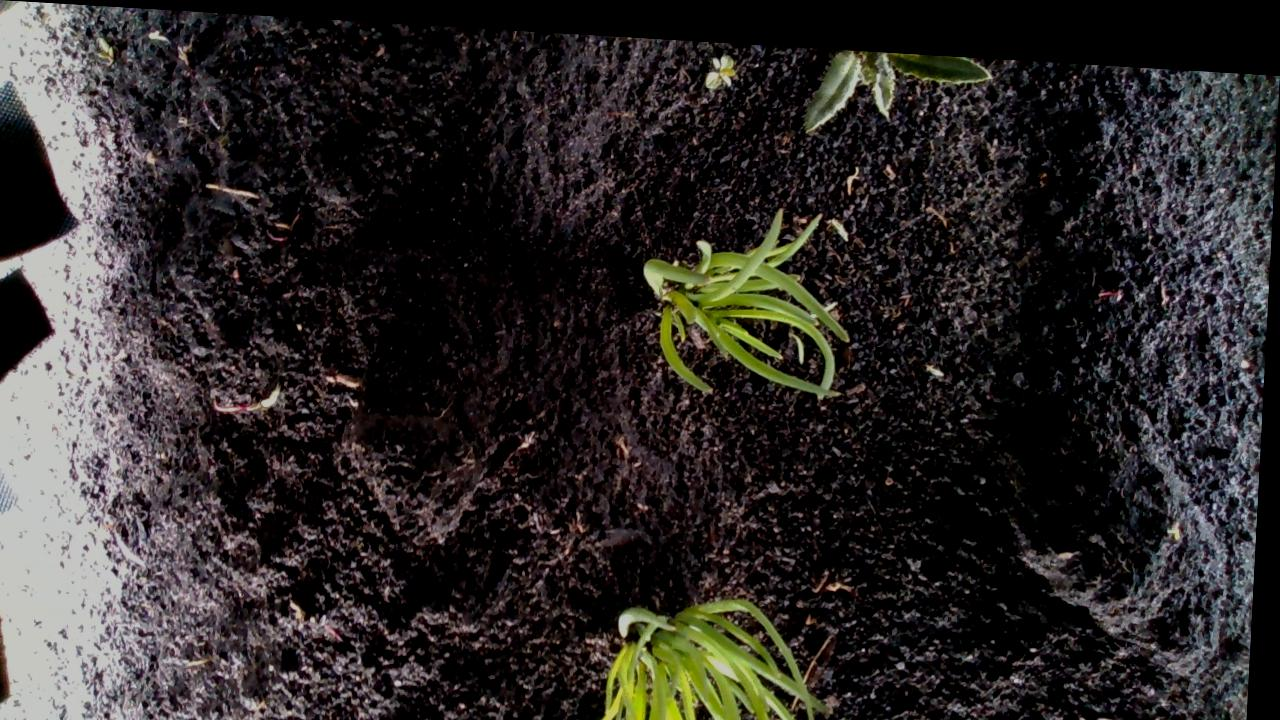weed: (702, 42, 736, 84)
